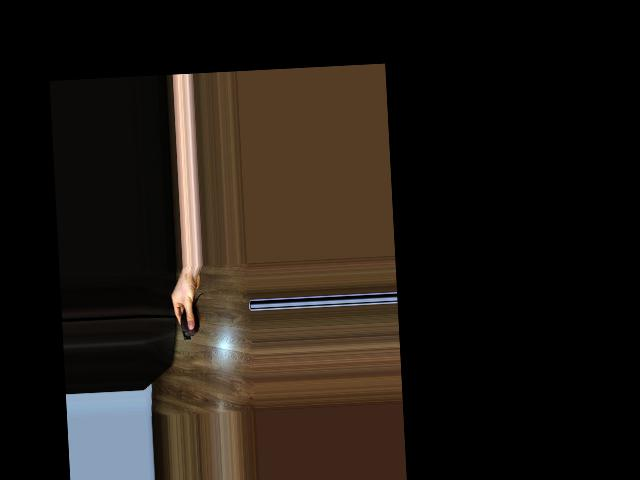beet: (179, 294, 206, 341)
